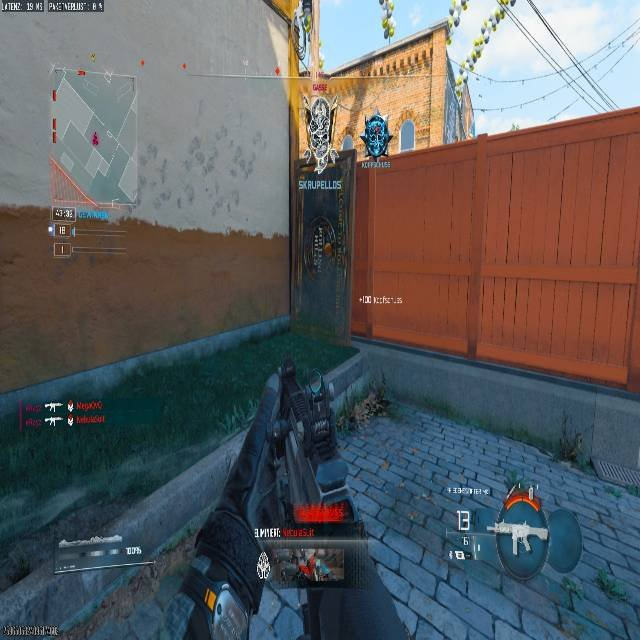player: (363, 106, 389, 159)
